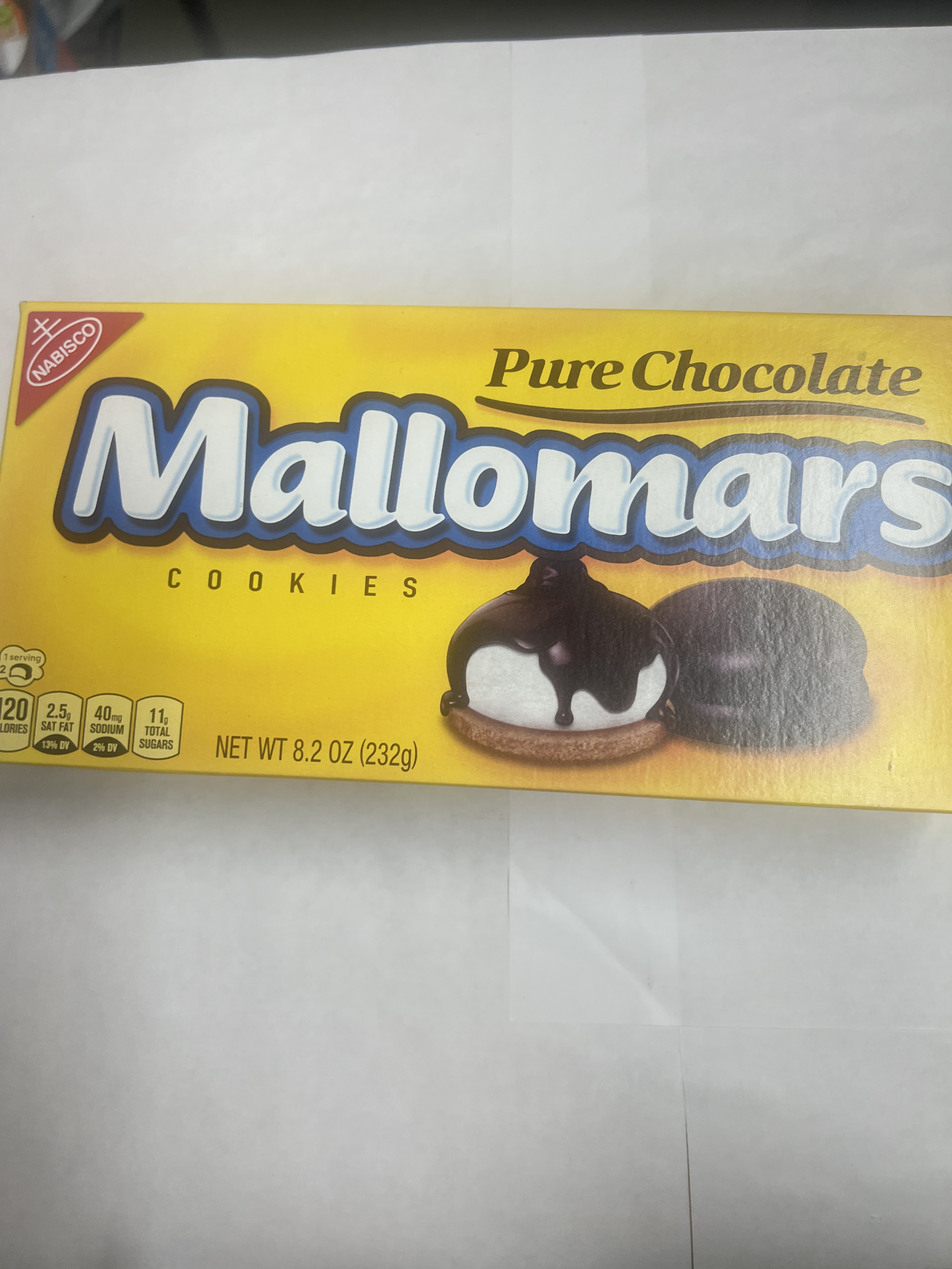packaged: (0, 293, 952, 818)
